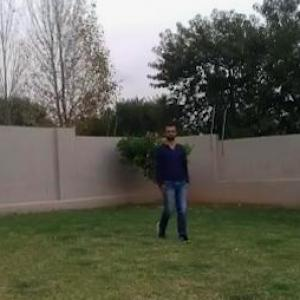follow: (159, 126, 188, 236)
